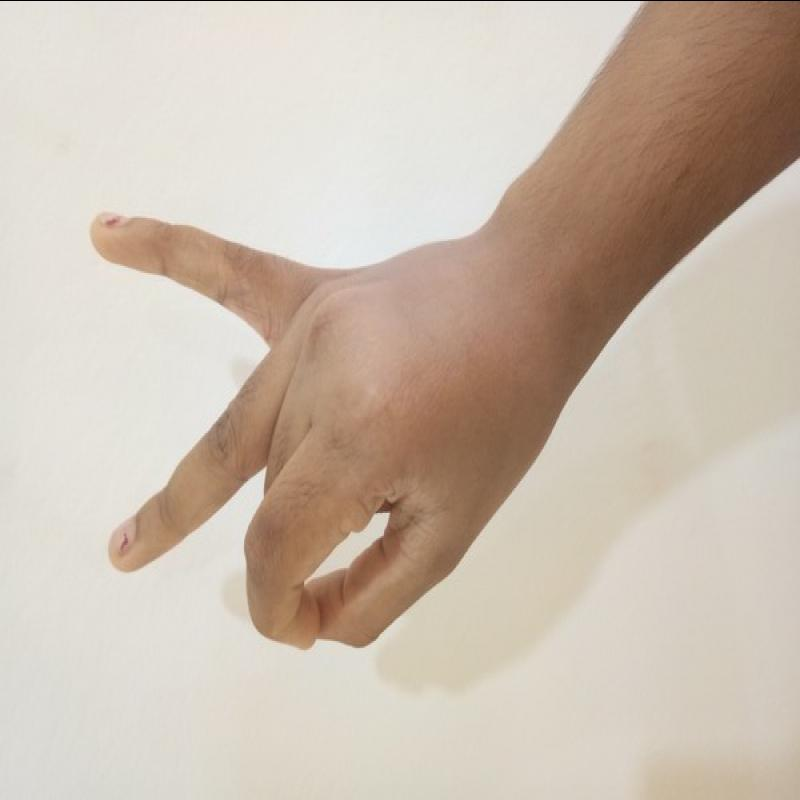Katakam: (60, 189, 563, 679)
